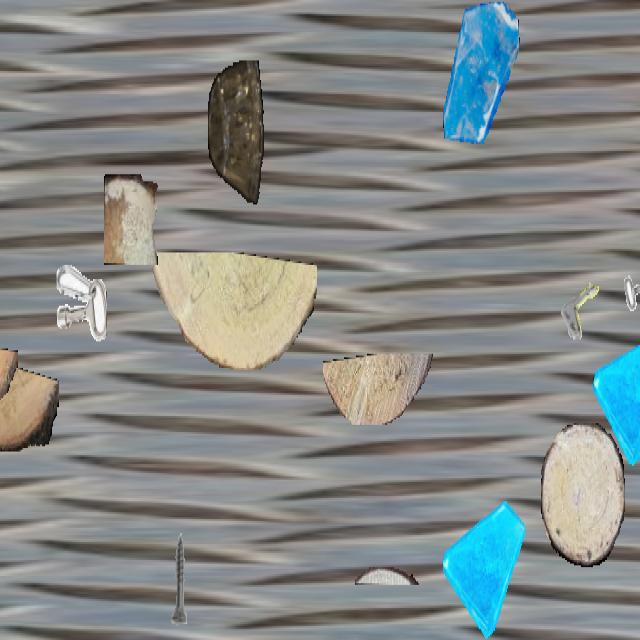glass: (443, 492, 525, 638), (441, 2, 521, 144), (593, 320, 640, 466)
metal: (557, 251, 617, 357), (152, 530, 206, 626), (56, 262, 106, 351), (611, 268, 640, 358), (0, 439, 6, 532)
plastic: (208, 60, 264, 206)
wood: (146, 252, 316, 370), (541, 423, 625, 565), (323, 354, 435, 425), (0, 359, 58, 452), (104, 174, 158, 263), (0, 338, 18, 448), (355, 567, 419, 585)
